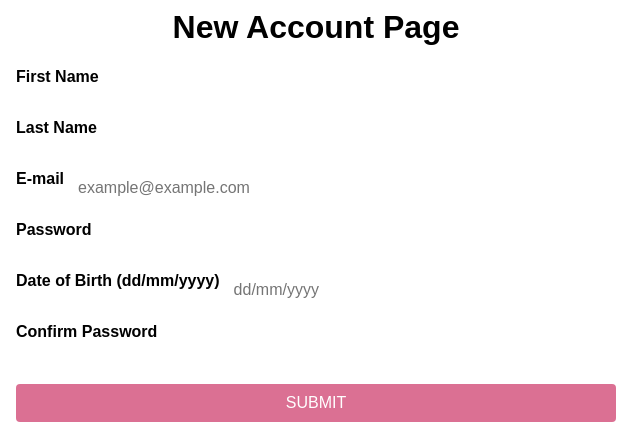
Test case: Form validation tests › shows error for invalid day in date (boundary)
Type "32/01/2000" into the field labelled "Date of Birth (dd/mm/yyyy)" at {"x": 337, "y": 290}, box [225,272,450,308]
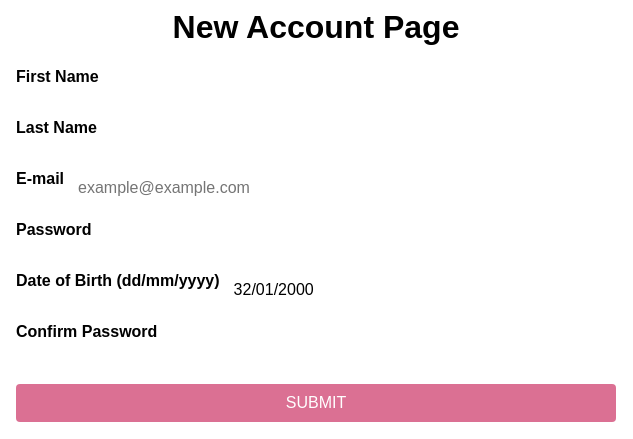
Click the button "SUBMIT" at {"x": 316, "y": 403}, box [16,384,616,422]
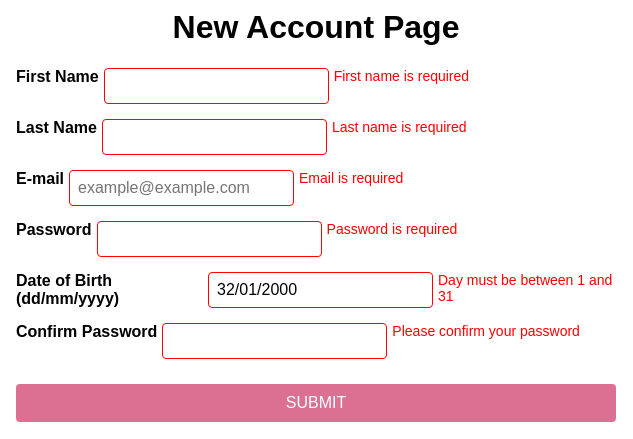
Check: the text "Day must be between 1 and 31" is shown, box [438,272,616,308]
